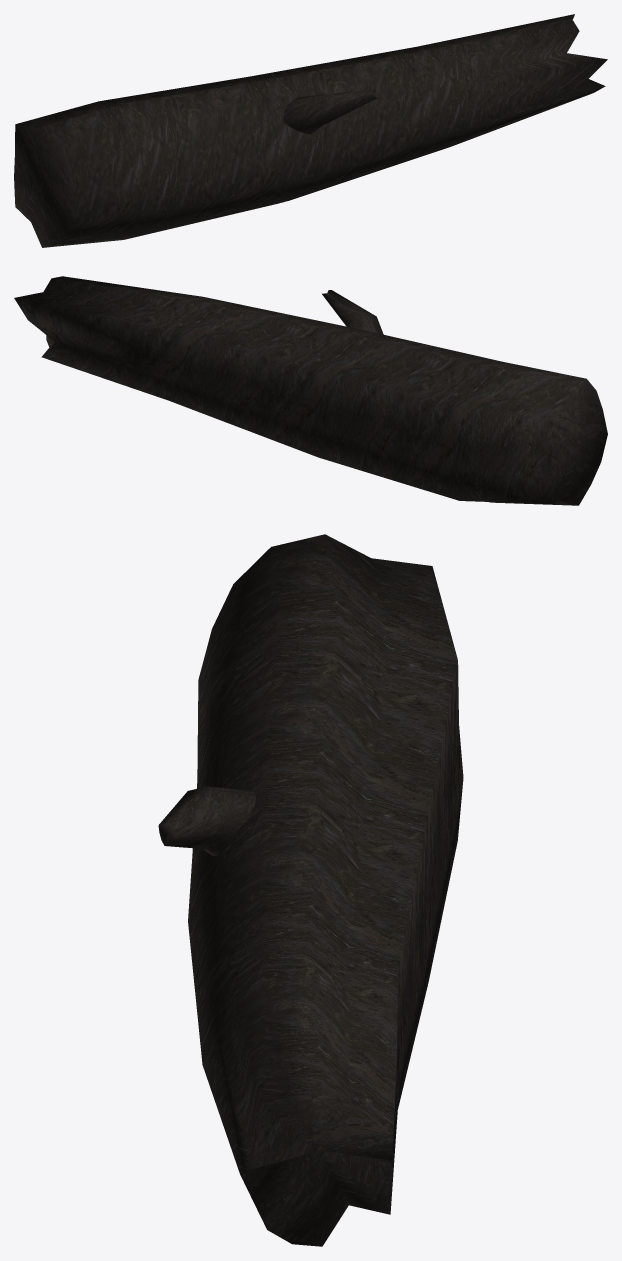
The model's file is area4-charred-log.glb.
The picture shows the model from 3 angles, top to bottom: view 1: azimuth 30°, elevation 25°; view 2: azimuth 150°, elevation 25°; view 3: azimuth 270°, elevation 25°; orthographic projection. The views are drawn at different scales.
Parts seen in each view (by area): view 1: A04_Fallen_Charred_Log; view 2: A04_Fallen_Charred_Log; view 3: A04_Fallen_Charred_Log.
Part boxes in pixels (x1=…): A04_Fallen_Charred_Log: x1=14, y1=14, x2=607, y2=247; A04_Fallen_Charred_Log: x1=14, y1=276, x2=607, y2=505; A04_Fallen_Charred_Log: x1=158, y1=534, x2=463, y2=1246.
Bounding box in the file's own units: 3.77 × 0.9 × 0.9102.
1 material, 1 textured.
